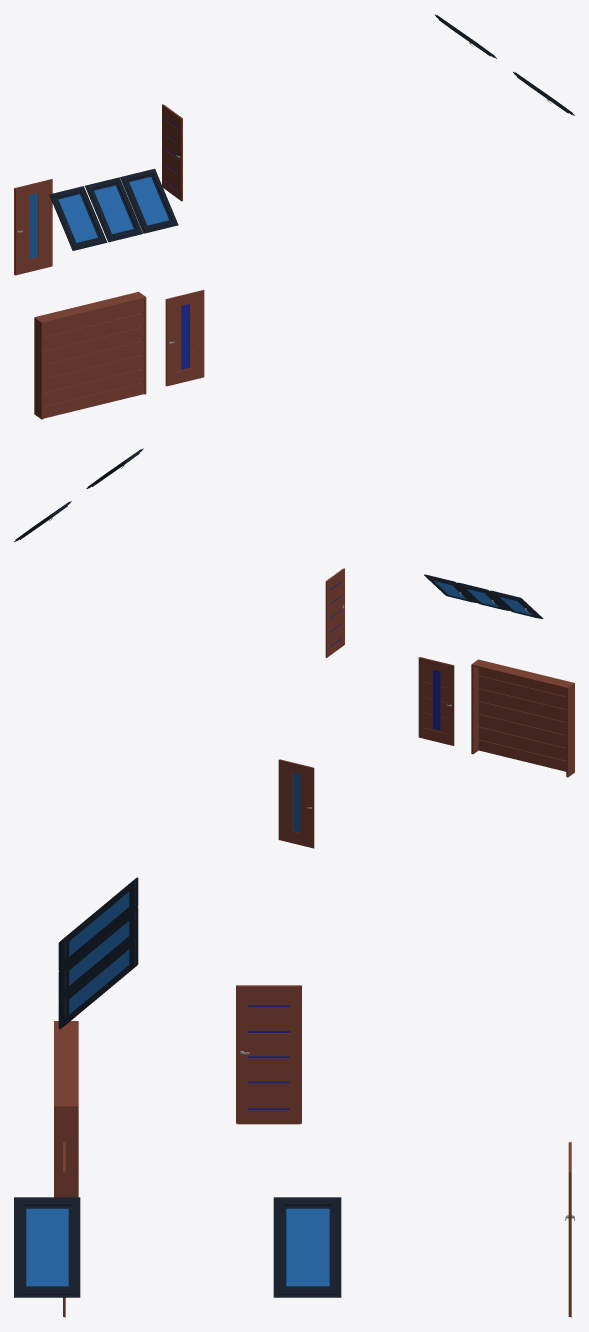
File: mid.obj
The picture shows the model from 3 angles, top to bottom: view 1: azimuth 30°, elevation 25°; view 2: azimuth 150°, elevation 25°; view 3: azimuth 270°, elevation 25°; orthographic projection. The views are drawn at different scales.
Visible parts, largest first — view 1: door_garage001, window_roof001, door_wing_014, door_wing_016, door_wing_015; view 2: door_garage001, door_wing_014, door_wing_016, window_roof001, door_wing_015; view 3: window_roof001, door_wing_015, door_garage001, door_wing_016.
Boxes of the visible parts, left/top/right/bottom form: door_garage001: left=34, top=291, right=146, bottom=419; window_roof001: left=49, top=14, right=574, bottom=250; door_wing_014: left=165, top=290, right=204, bottom=386; door_wing_016: left=14, top=179, right=52, bottom=275; door_wing_015: left=162, top=104, right=182, bottom=201; door_garage001: left=471, top=659, right=574, bottom=777; door_wing_014: left=418, top=657, right=454, bottom=745; door_wing_016: left=278, top=759, right=314, bottom=848; window_roof001: left=14, top=448, right=543, bottom=618; door_wing_015: left=325, top=568, right=344, bottom=657; window_roof001: left=14, top=877, right=341, bottom=1297; door_wing_015: left=236, top=985, right=301, bottom=1124; door_garage001: left=54, top=1021, right=78, bottom=1197; door_wing_016: left=565, top=1141, right=574, bottom=1317.
Bounding box in the file's own units: 5.1 × 2.1 × 2.85.
